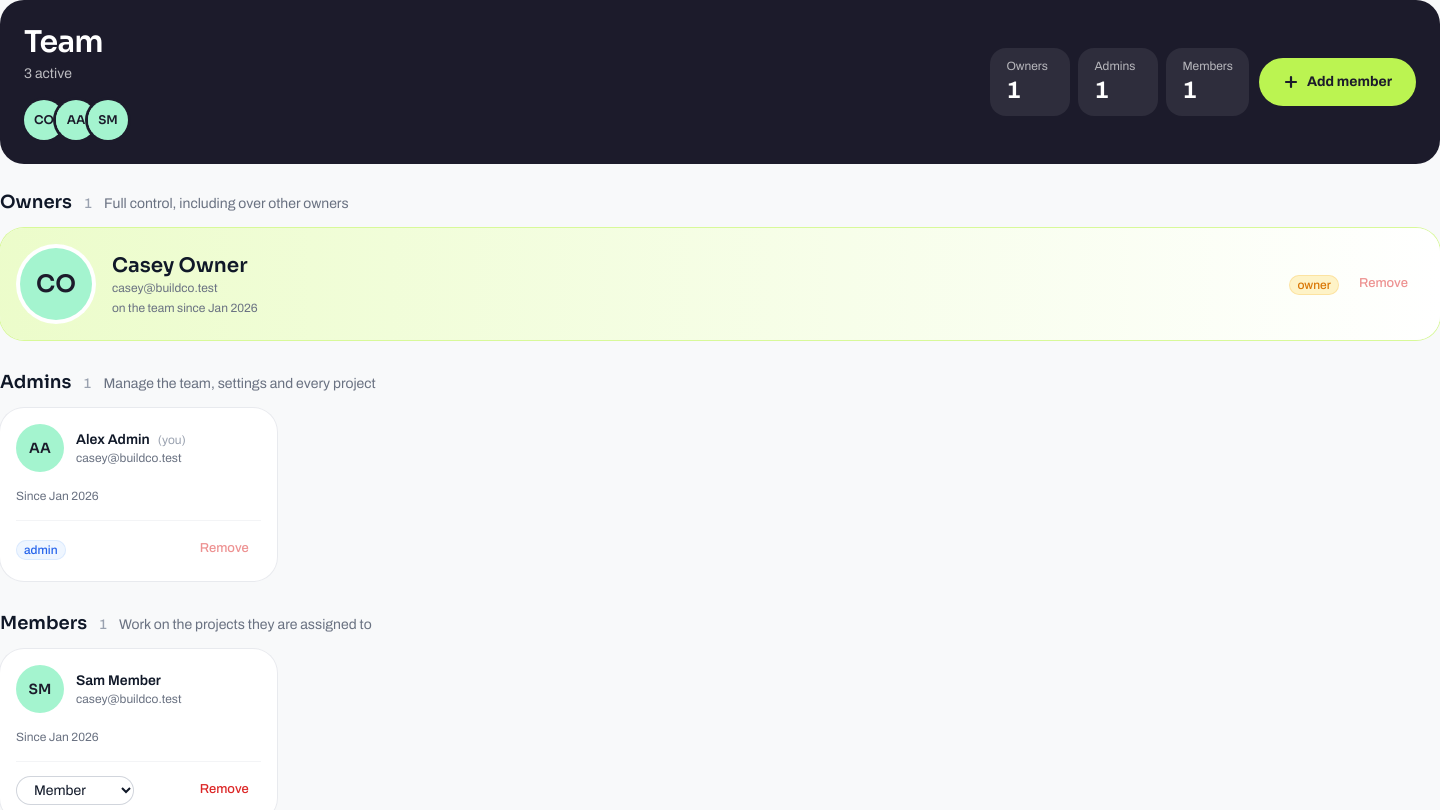
TeamPage › adding a member › withholds the owner role from an admin, and says why
Click the button "Add member" at (1338, 82), box [1259,58,1416,106]
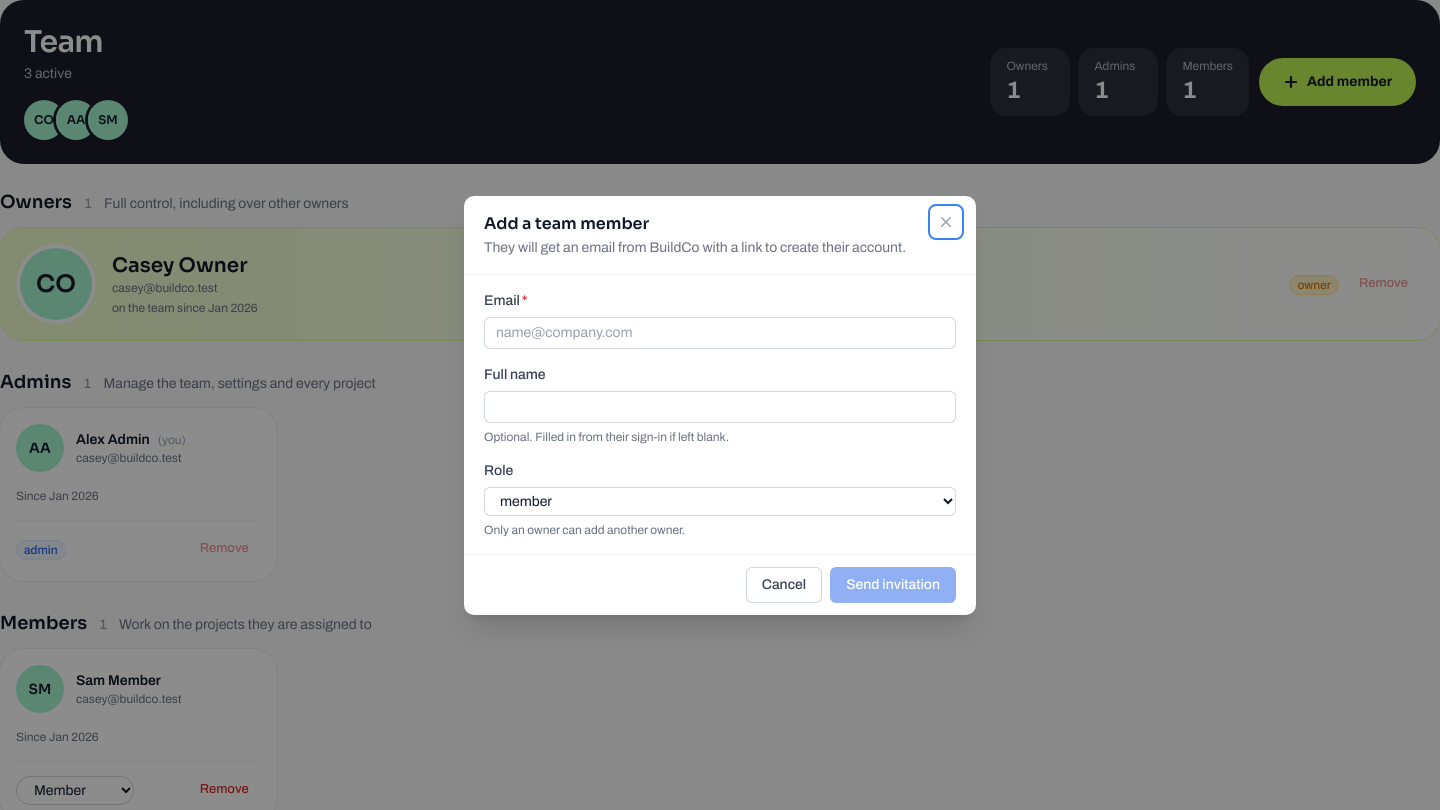
Expected: the text "Only an owner can add another owner." is shown, [484,522,685,536]
